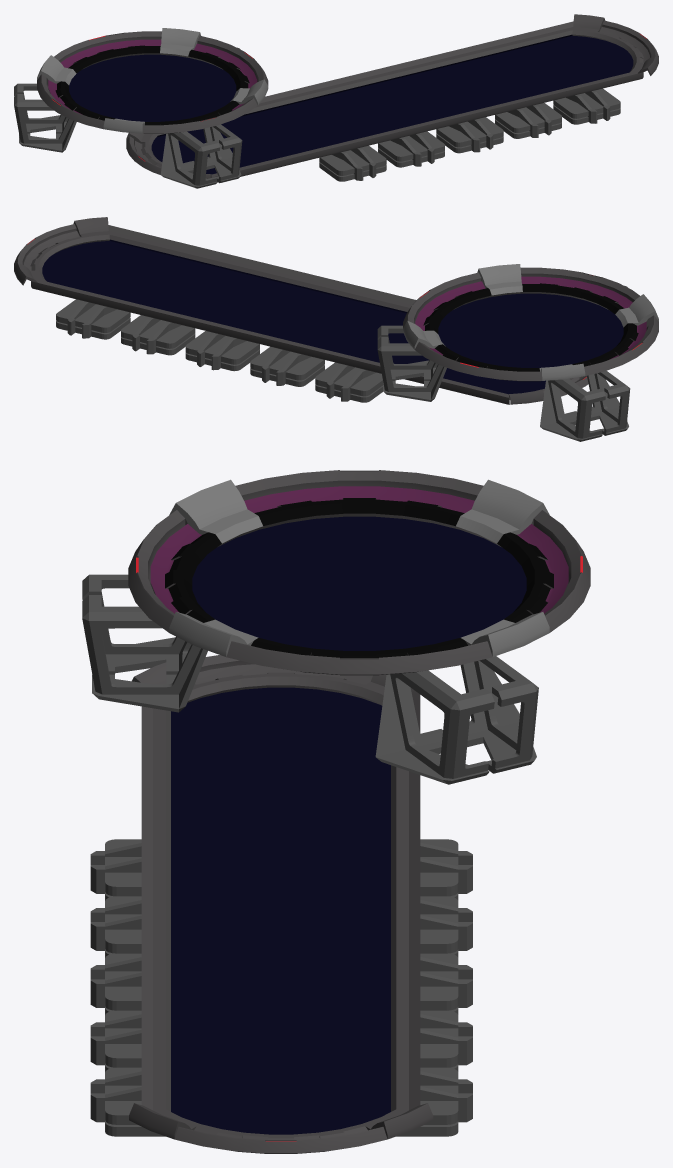
Rendered from Frame.001A.glb.
The picture shows the model from 3 angles, top to bottom: view 1: azimuth 30°, elevation 25°; view 2: azimuth 150°, elevation 25°; view 3: azimuth 270°, elevation 25°; orthographic projection. The views are drawn at different scales.
Visible parts, largest first — view 1: Circle.004, Circle, Cylinder.002, Cube.005; view 2: Circle.004, Circle, Cylinder.002, Cube.005; view 3: Circle.004, Circle, Cylinder.002, Cube.005.
Boxes of the visible parts, bbox=[...] form: Circle.004: bbox=[126, 14, 658, 178]; Circle: bbox=[37, 28, 268, 133]; Cylinder.002: bbox=[319, 88, 620, 181]; Cube.005: bbox=[14, 47, 242, 188]; Circle.004: bbox=[14, 217, 588, 404]; Circle: bbox=[403, 264, 658, 381]; Cylinder.002: bbox=[56, 299, 382, 402]; Cube.005: bbox=[377, 285, 630, 441]; Circle.004: bbox=[129, 655, 433, 1153]; Circle: bbox=[128, 470, 590, 675]; Cylinder.002: bbox=[90, 839, 472, 1136]; Cube.005: bbox=[82, 574, 538, 784].
Size of the model in its own units: 5.85 by 0.8681 by 2.19.
